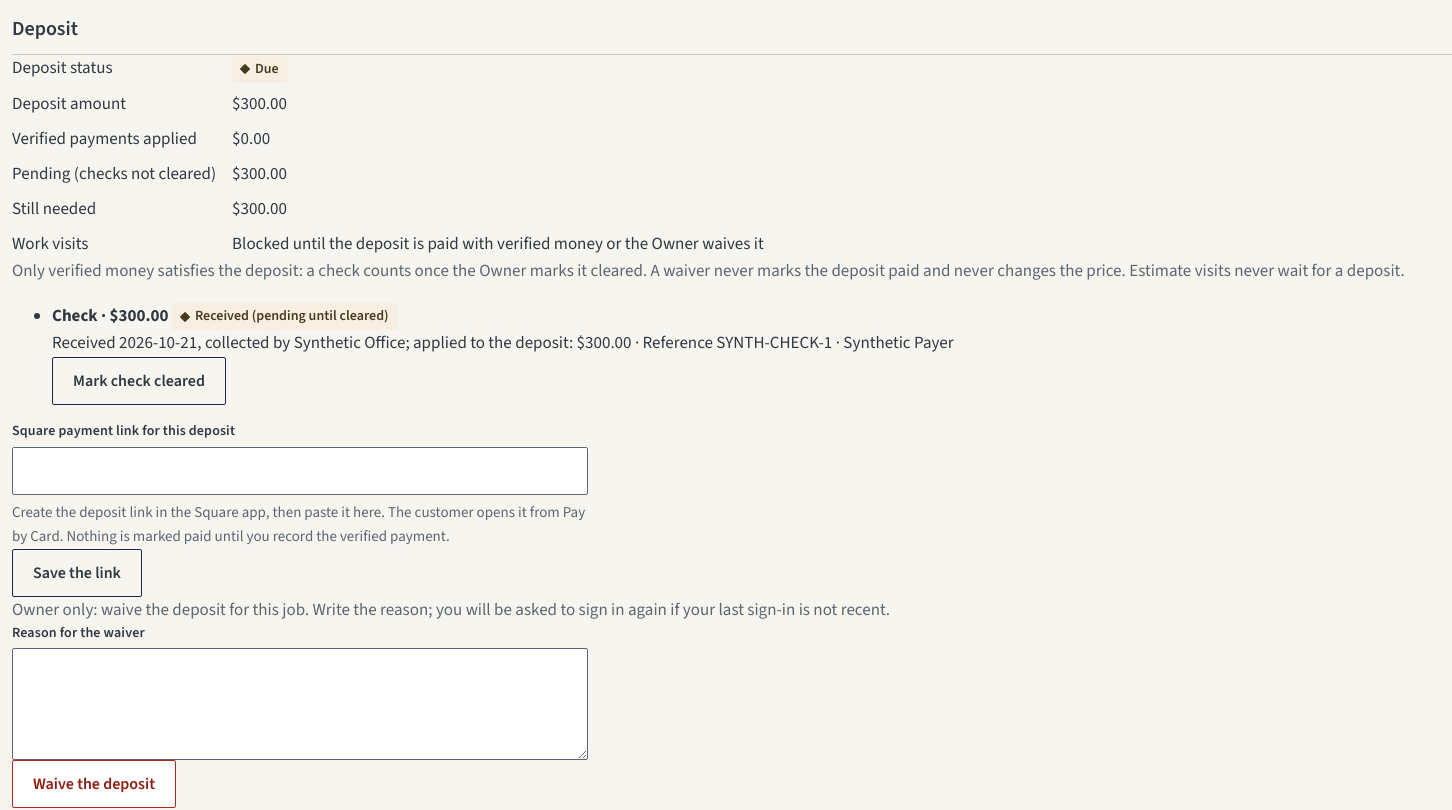
it: [HH-FIN-02][HH-FIN-12][T36] the deposit panel › shows the amount, the pending check, that work visits are blocked, and the Owner clears the check
Expected: the 1st text "$300.00" is shown, [232, 92, 287, 116]
Expected: the text "Received (pending until cleared)" is shown, [172, 303, 398, 330]
Click the button "Mark check cleared": {"x": 139, "y": 381} [52, 357, 226, 405]
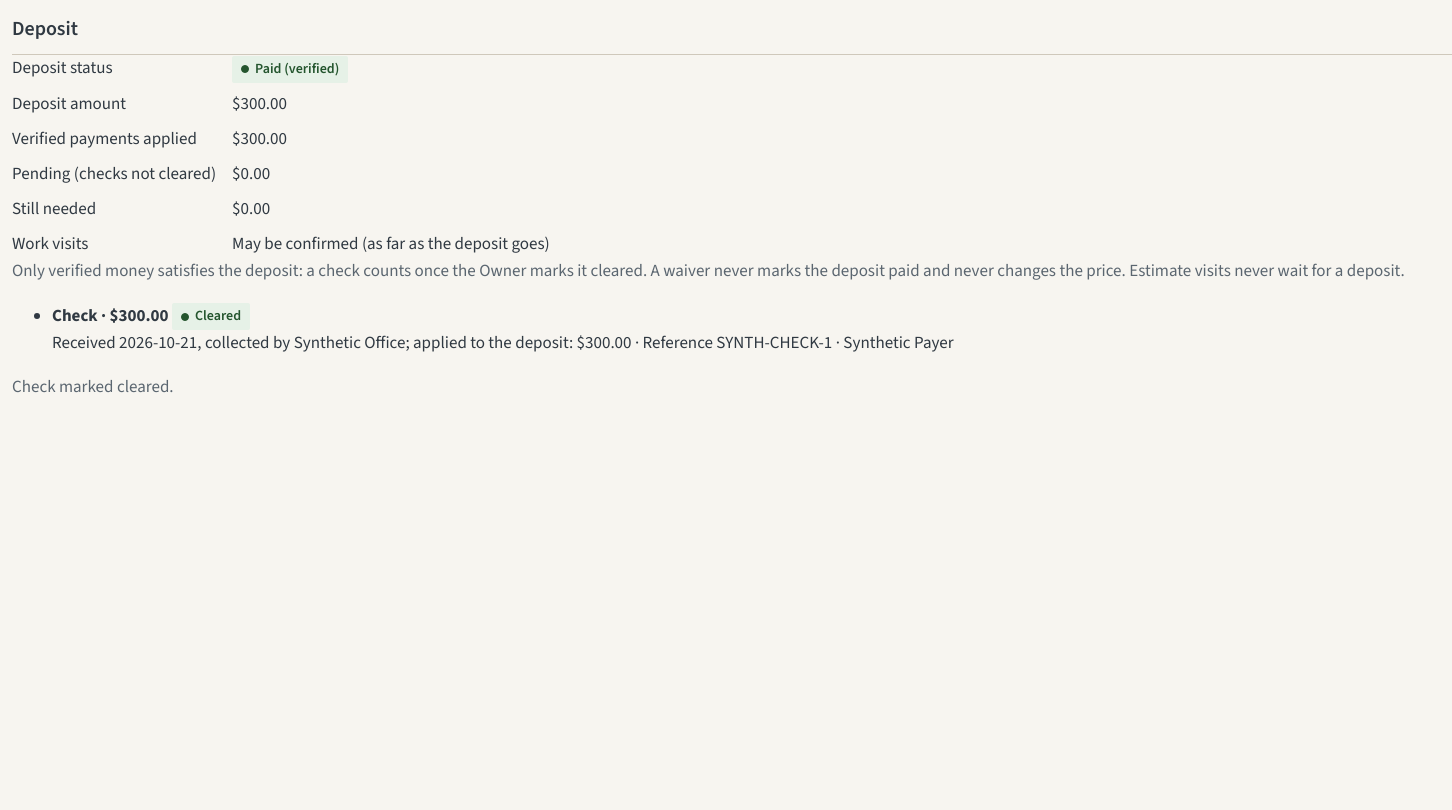
Result: the text "Check marked cleared." is shown at [12, 375, 174, 399]
Result: the text with test id "deposit-work-scheduling" reads "May be confirmed (as far as the deposit goes)" at [232, 232, 550, 256]
Result: the text "waive the deposit" is gone
